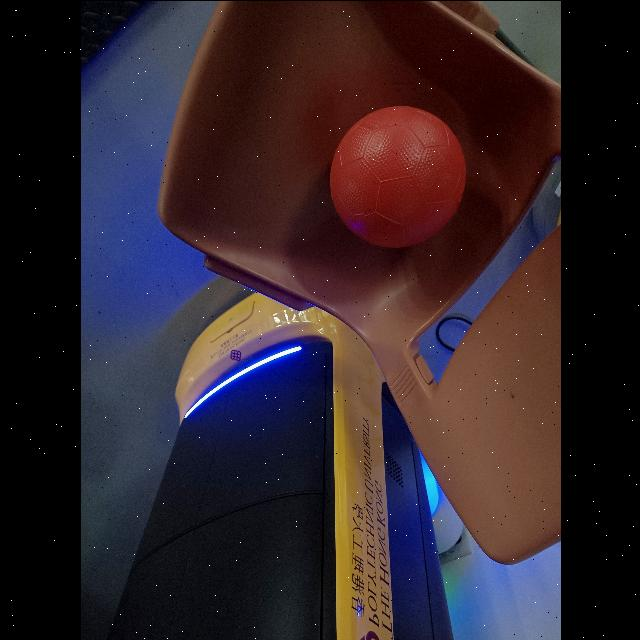R: (328, 105, 474, 249)
